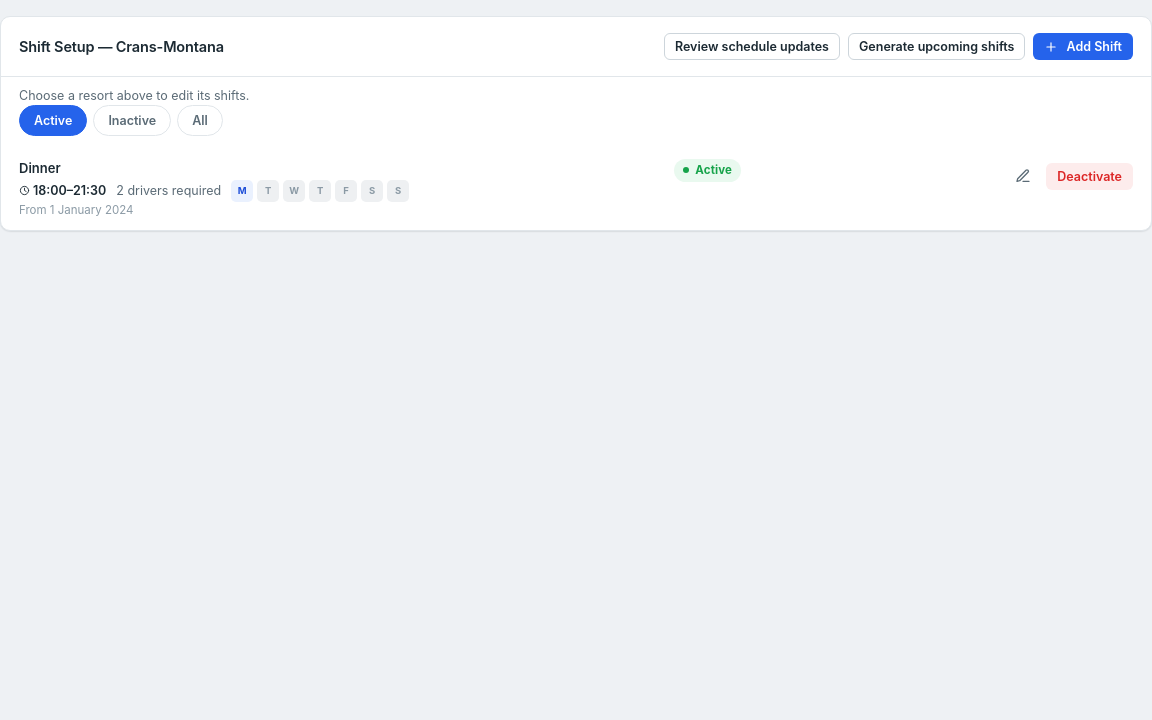
Test: ShiftSetupPanel: Edit Shift › 16. renaming the display name is supported
expect the text "Dinner" is shown: met, box x1=19 y1=160 x2=60 y2=176
Click the button named "Edit Dinner": (1023, 176) x1=1006 y1=159 x2=1040 y2=193
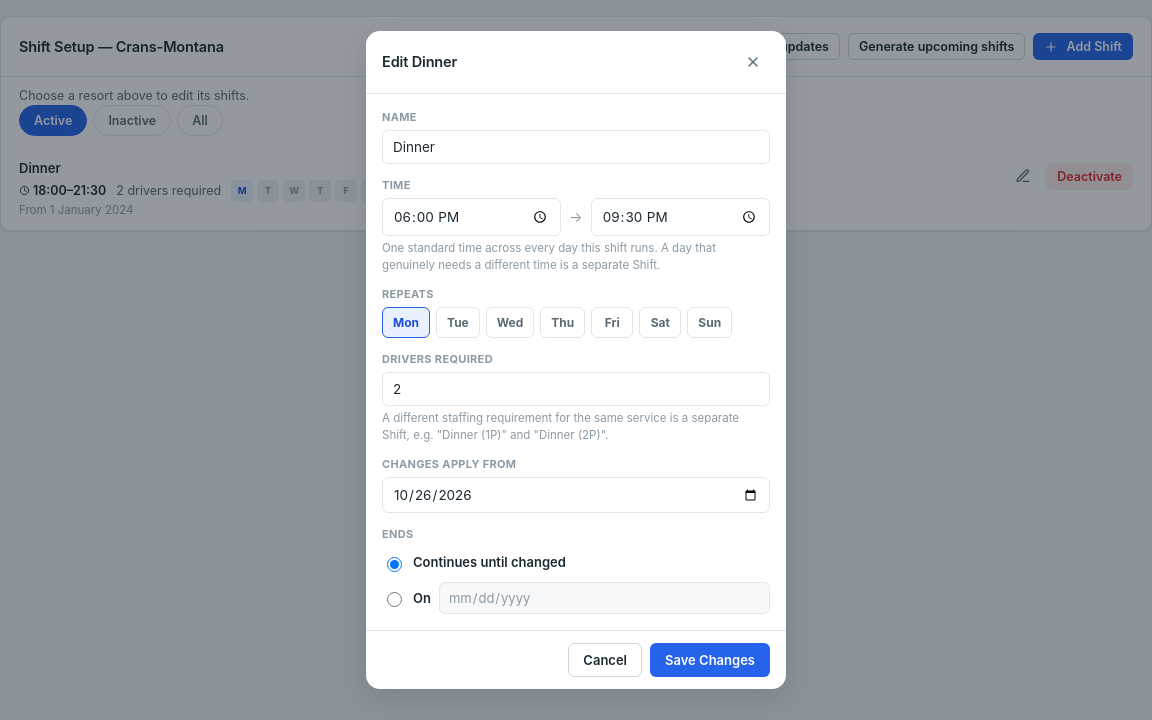
Replace the text in the field labelled "Name" with "Dinner Service": (576, 147) x1=382 y1=130 x2=770 y2=164
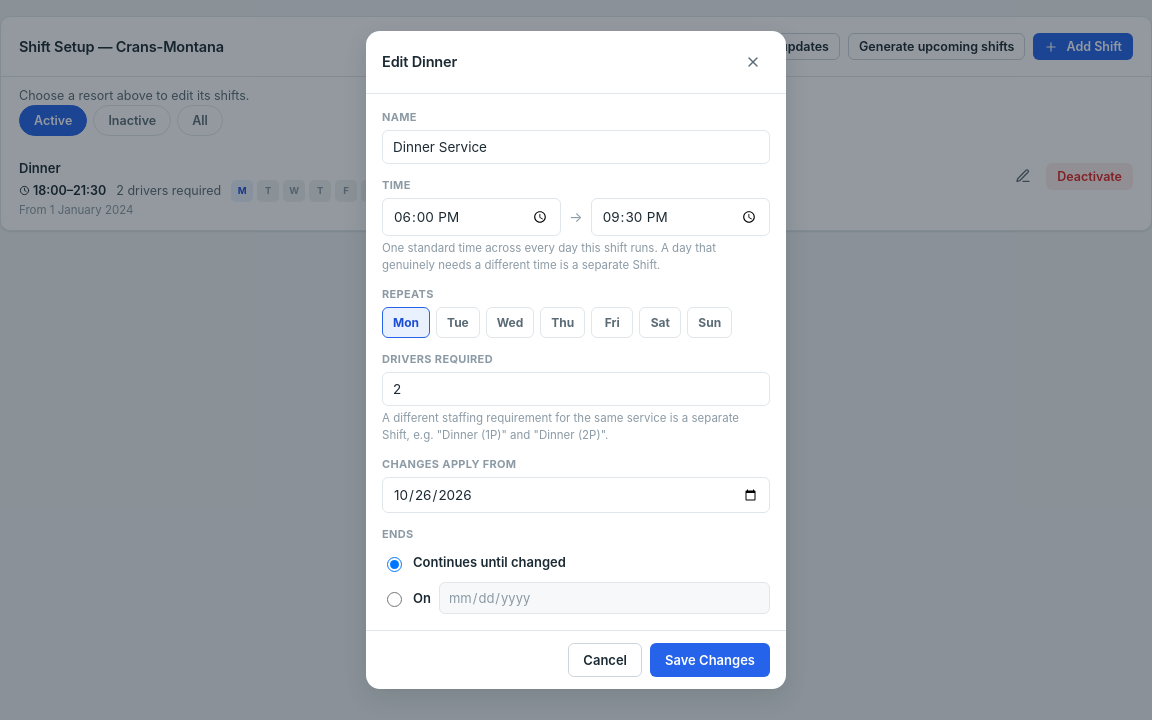
Click the button "Save Changes": (710, 660) x1=650 y1=643 x2=770 y2=677
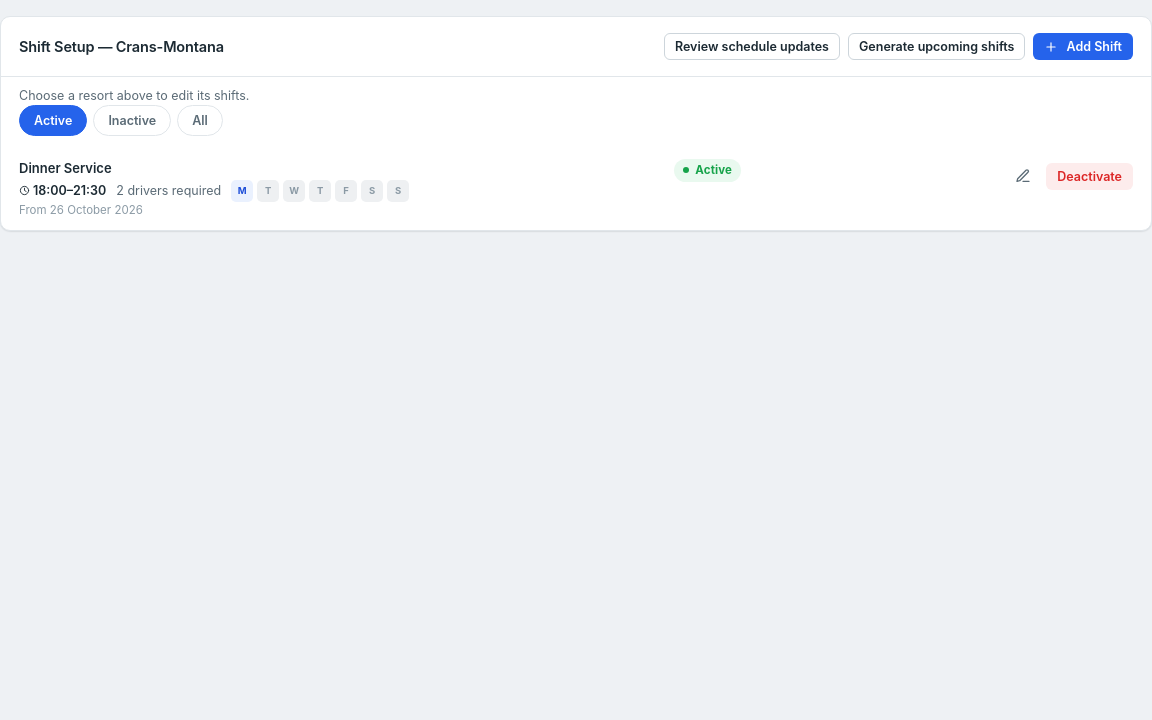
expect the text "Dinner Service" is shown: met, box x1=19 y1=160 x2=112 y2=176
